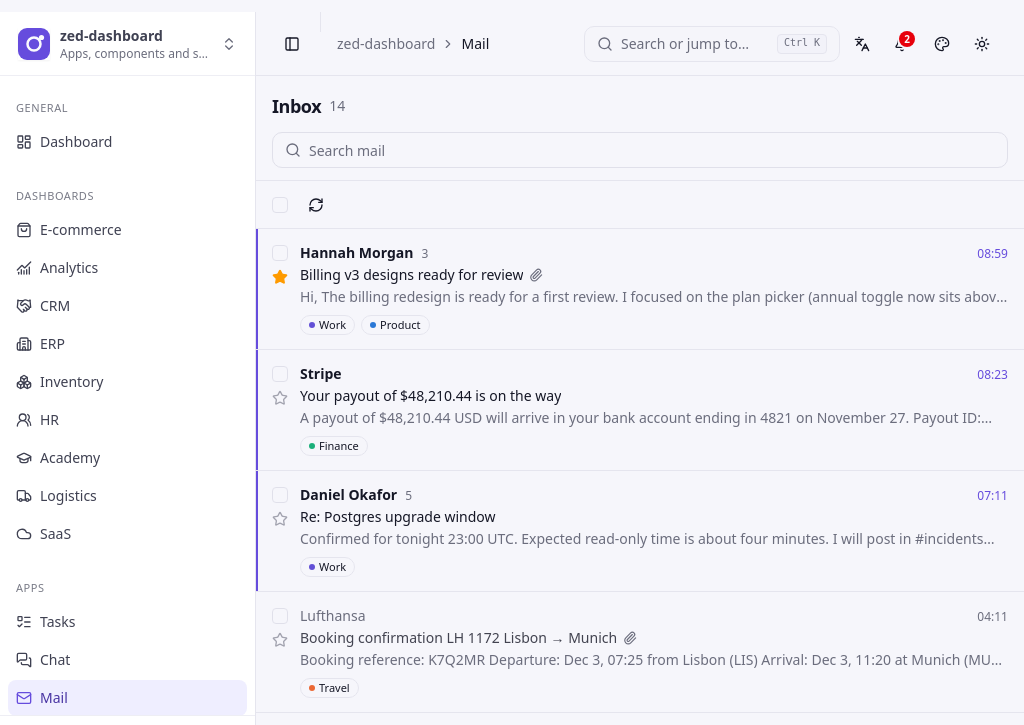
Mail app › shows the inbox and opens a message
The width and height of the screenshot is (1024, 725).
Click the text "Billing v3 designs ready for review". click: {"x": 412, "y": 275}
box: [300,265,524,285]
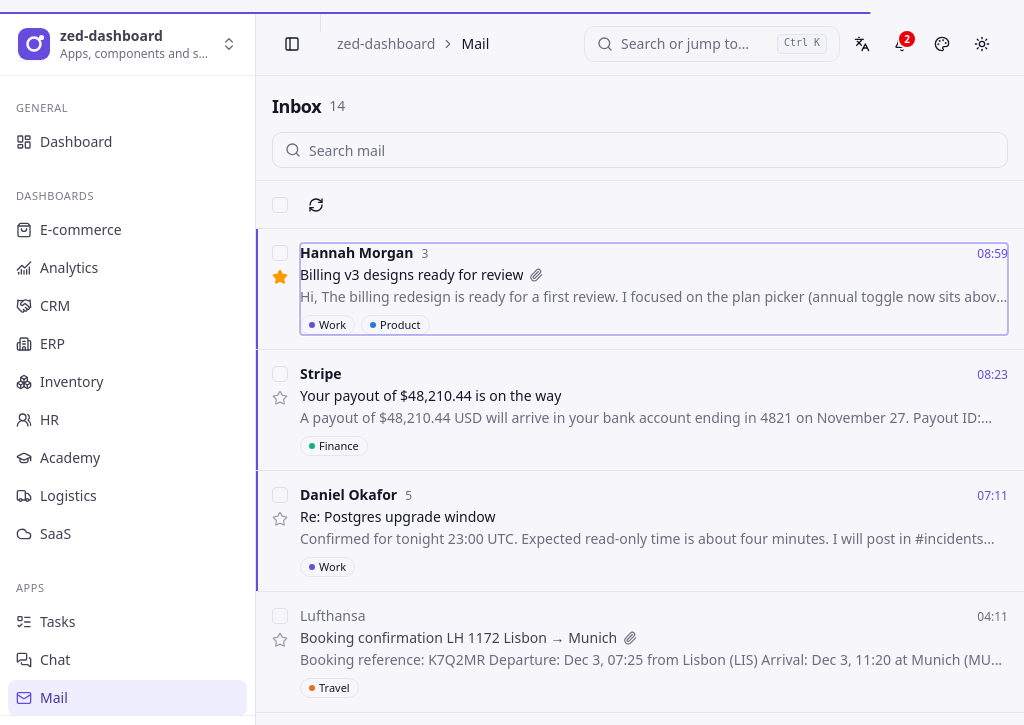
Click the text "Billing v3 designs ready for review". click: {"x": 412, "y": 275}
box: [300,265,524,285]
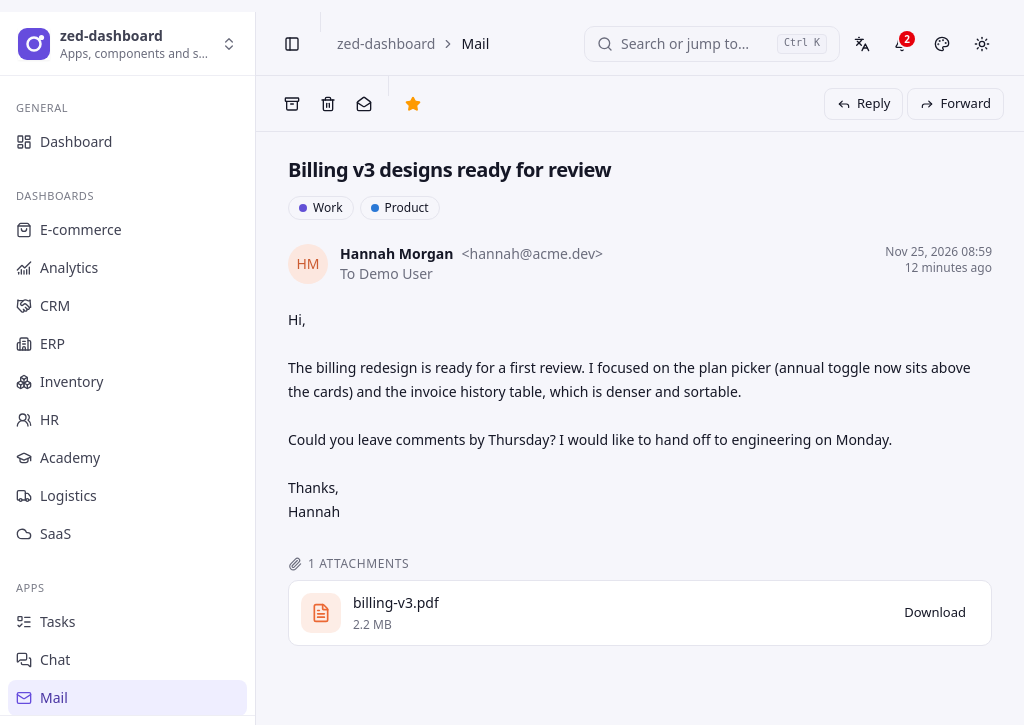
Result: the button "Reply" is shown at [824,88,903,120]
